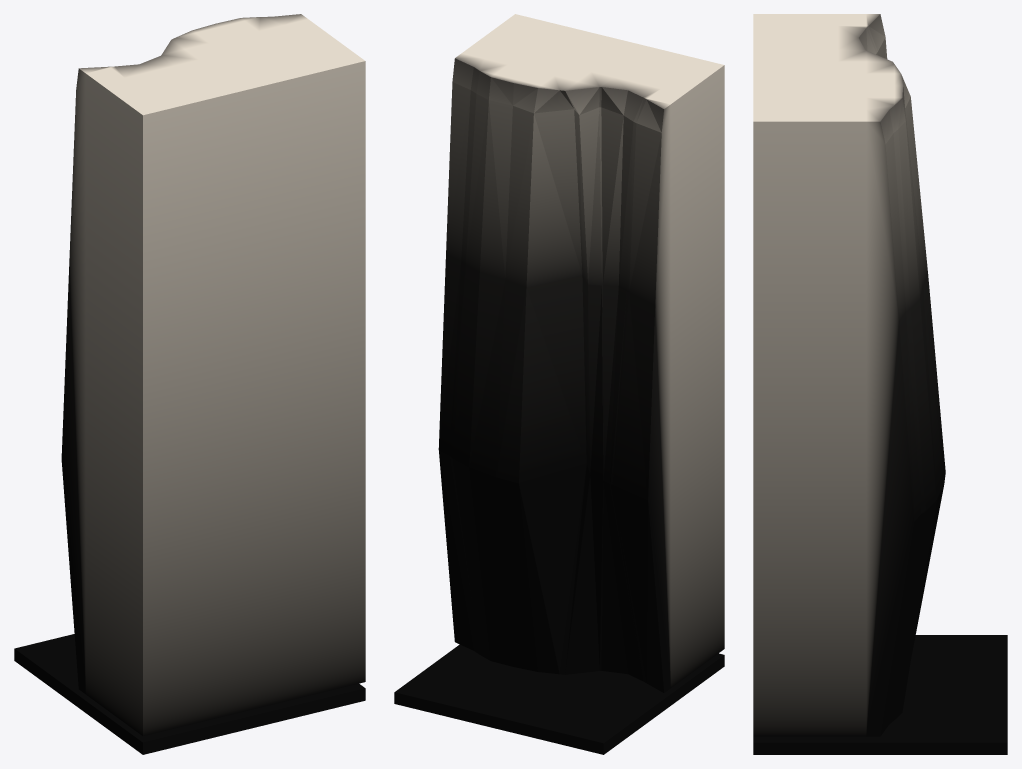
Rendered from SM_VKI_Ground_Cave_OOXX_Q10.fbx.
3 views of the same model, side by side, from view 1: azimuth 30°, elevation 25°; view 2: azimuth 150°, elevation 25°; view 3: azimuth 270°, elevation 25° (orthographic). The views are drawn at different scales.
Parts seen in each view (by area): view 1: SM_VKI_Ground_Cave_OOXX_Q10.001; view 2: SM_VKI_Ground_Cave_OOXX_Q10.001; view 3: SM_VKI_Ground_Cave_OOXX_Q10.001.
Boxes of the visible parts, x1=… form: SM_VKI_Ground_Cave_OOXX_Q10.001: x1=14, y1=14, x2=365, y2=754; SM_VKI_Ground_Cave_OOXX_Q10.001: x1=394, y1=14, x2=724, y2=754; SM_VKI_Ground_Cave_OOXX_Q10.001: x1=753, y1=14, x2=1007, y2=754.
Size of the model in its own units: 1.5 by 4.12 by 1.5.
